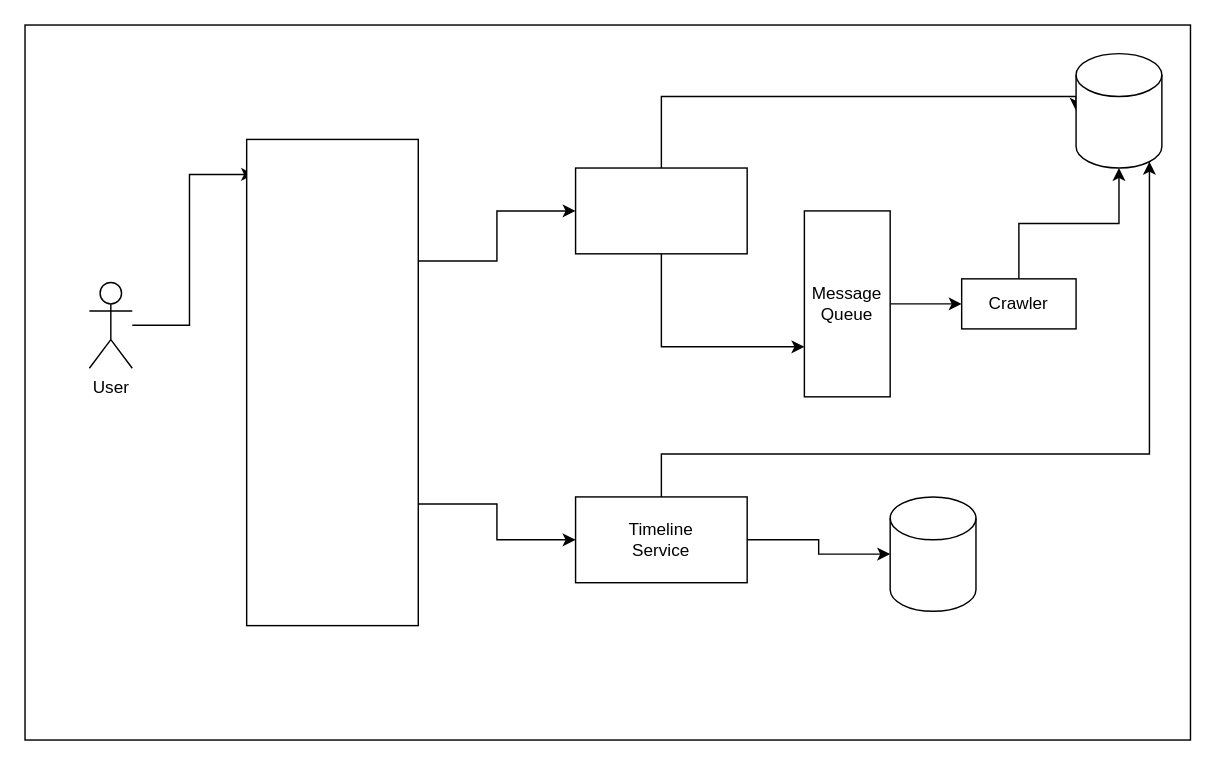
The diagram is 1216 pixels wide and 765 high, and some of its shapes have lost their labels. The shapes that lost their labels are listed below. From the top down, each one's centre as x and y in pixels, then its label:
At point (660, 210): "Board Service".
At point (331, 382): "Load Balancer".
